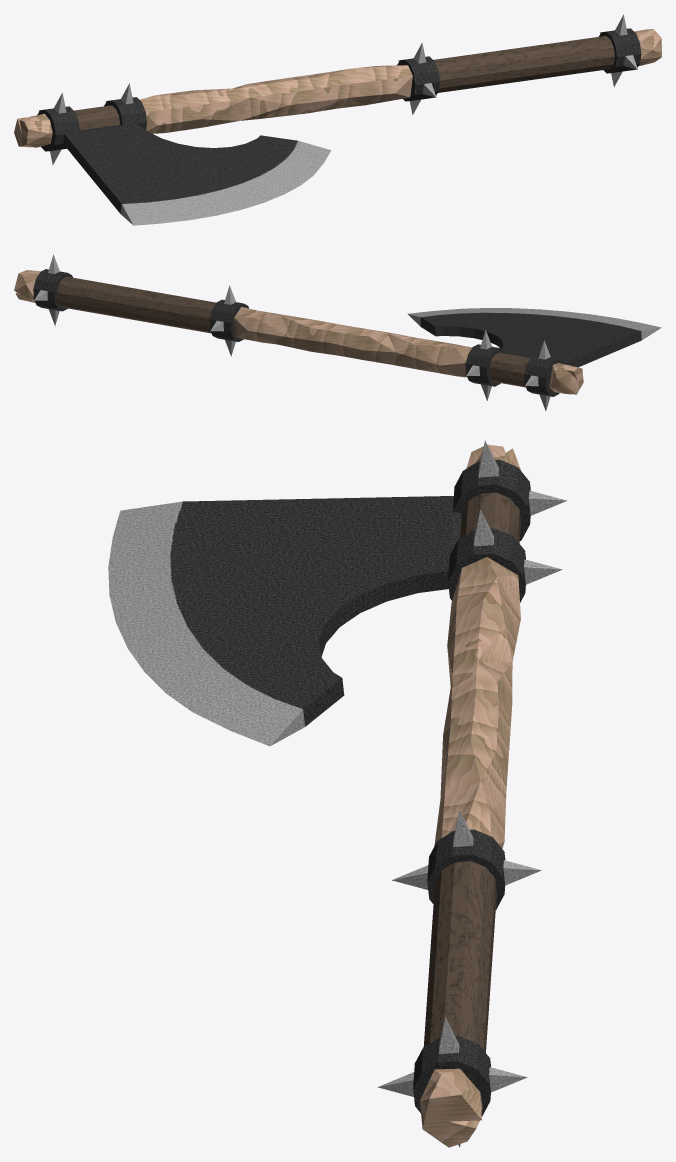
The model's file is minoAxe.obj.
3 views of the same model, one above another, from view 1: azimuth 30°, elevation 25°; view 2: azimuth 150°, elevation 25°; view 3: azimuth 270°, elevation 25° (orthographic). The views are drawn at different scales.
Size of the model in its own units: 2.12 by 0.3998 by 0.7424.
1 material, 1 textured.
